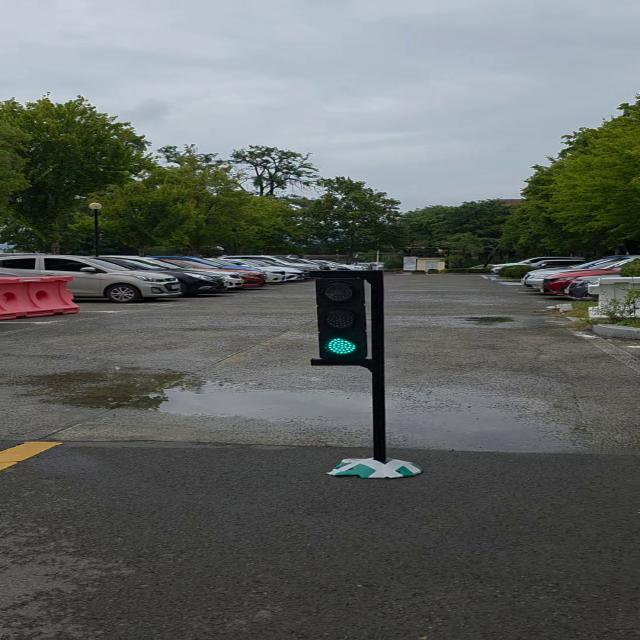green: (316, 275, 378, 363)
